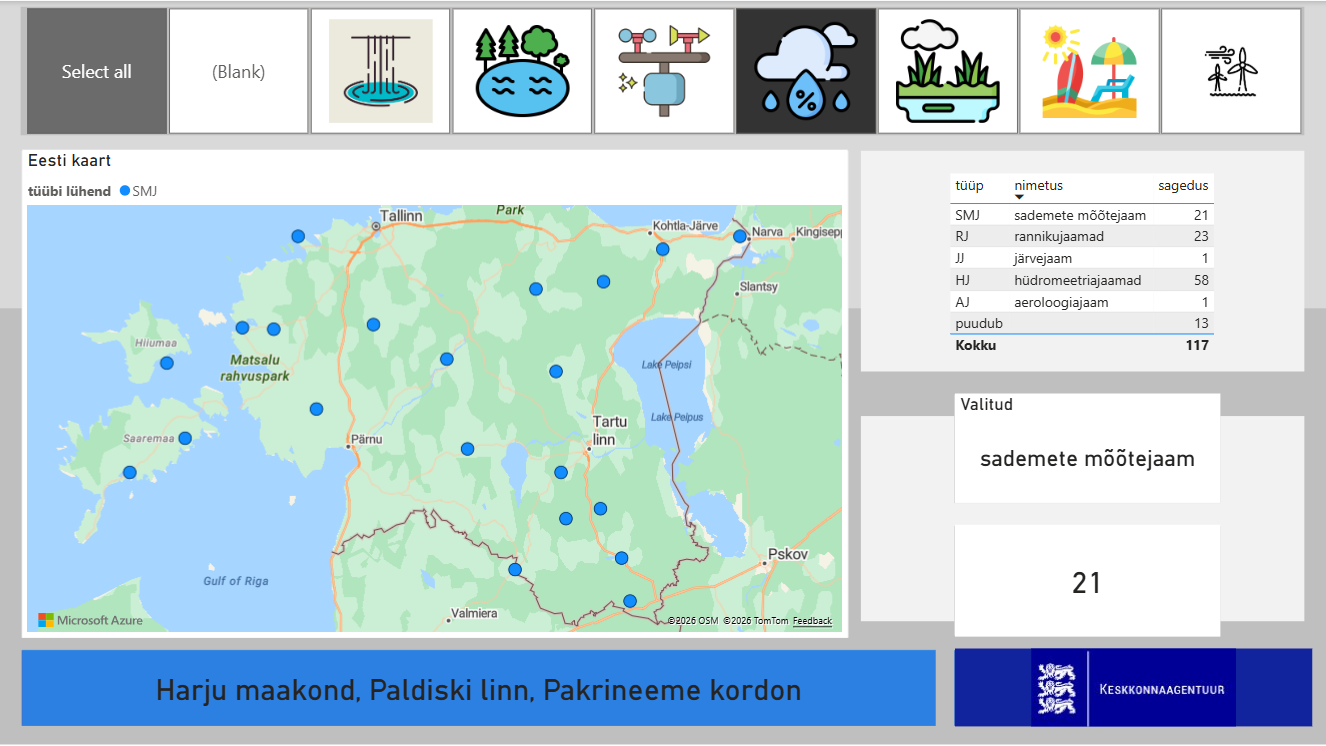

The page's visual inventory and layout, read from the dashboard file:
{"tool":"powerbi","page":{"name":"Ilmajaamad","canvas":[1280,720],"ordinal":1},"visuals":[{"type":"azureMap","title":"Eesti kaart","fields":{"Y":["station.latitude"],"X":["station.longitude"],"Series":["station.type"]},"box":[22.2,144,796.3,470.2],"z":0},{"type":"tableEx","fields":{"Values":["station.type","type.name","CountNonNull(station.type)"]},"box":[910.9,161.7,266.6,197.9],"z":1000},{"type":"slicer","fields":{"Values":["type.icon_patch"]},"box":[0,0,1280,135.1],"z":2000},{"type":"card","fields":{"Values":["Min(station.aadress)"]},"box":[22.2,626.5,881.2,73.8],"z":3000},{"type":"card","title":"Valitud","fields":{"Values":["Min(type.name)"]},"box":[921.8,379.1,256,105.8],"z":4000},{"type":"card","fields":{"Values":["CountNonNull(station.type)"]},"box":[921.8,505.8,256,108.3],"z":5000},{"type":"image","box":[921.8,625.2,344.6,75.1],"z":6000}]}

Visuals, with their boxes in screenshot pixels (x1, y1, x2, y2), scaled from the page's 1280x720 canvas onto the 1326x746 screenshot:
"Eesti kaart" azureMap: x1=23 y1=149 x2=848 y2=636
tableEx - station.type x type.name: x1=944 y1=168 x2=1220 y2=373
slicer - type.icon_patch: x1=0 y1=0 x2=1325 y2=140
card - Min(station.aadress): x1=23 y1=649 x2=936 y2=726
"Valitud" card: x1=955 y1=393 x2=1220 y2=502
card - CountNonNull(station.type): x1=955 y1=524 x2=1220 y2=636
image: x1=955 y1=648 x2=1312 y2=726
